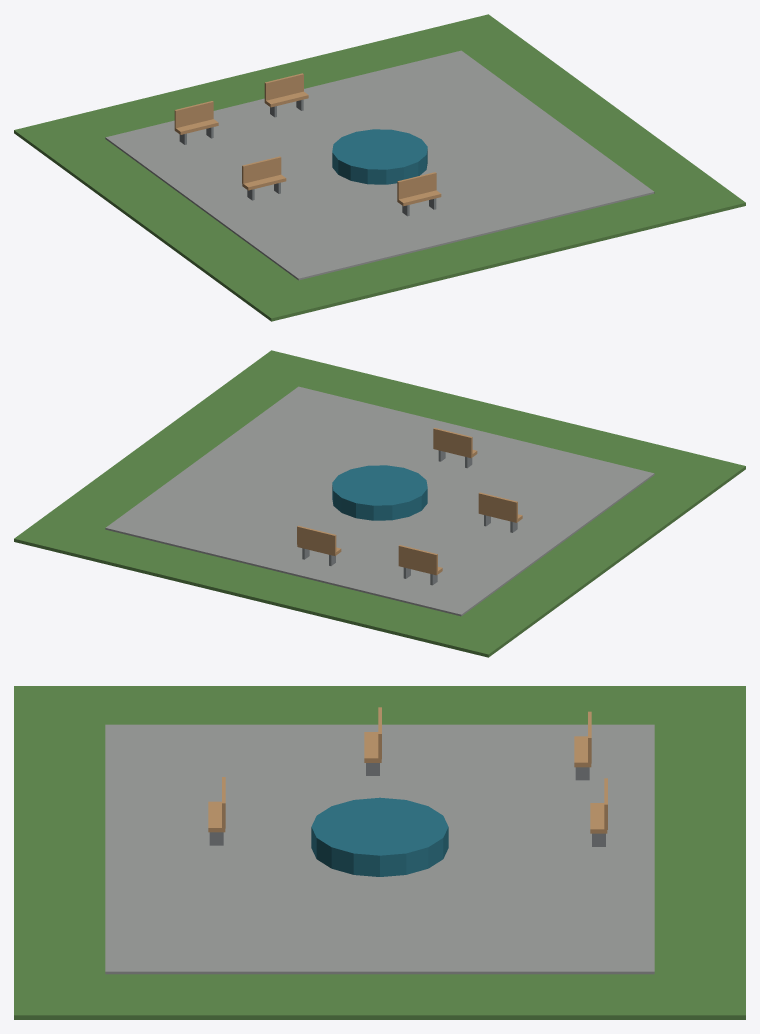
Rendered from Park_011.glb.
3 views of the same model, one above another, from view 1: azimuth 30°, elevation 25°; view 2: azimuth 150°, elevation 25°; view 3: azimuth 270°, elevation 25° (orthographic). The views are drawn at different scales.
Parts seen in each view (by area): view 1: Park_011; view 2: Park_011; view 3: Park_011.
Boxes of the visible parts, x1,y1,x2,y2 form: Park_011: (14, 14, 745, 321); Park_011: (14, 350, 745, 657); Park_011: (14, 686, 745, 1019).
Size of the model in its own units: 25 by 1.86 by 23.49.
